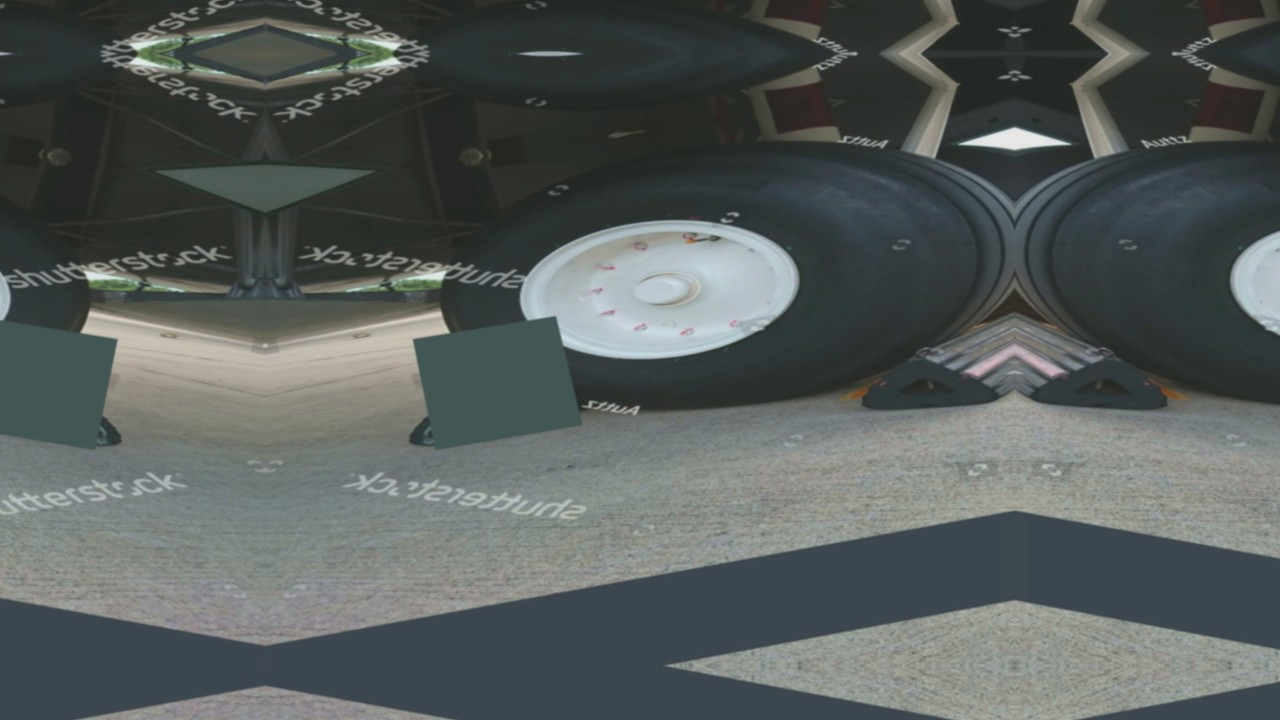chock: (838, 295, 1015, 427), (1015, 295, 1192, 427), (388, 364, 609, 458), (0, 364, 142, 458)
wheel: (402, 99, 1015, 455), (1015, 99, 1280, 455), (341, 54, 940, 147), (0, 99, 128, 455), (341, 0, 940, 54), (904, 118, 1015, 325), (1015, 118, 1126, 325), (1090, 54, 1280, 147), (0, 54, 189, 147), (1090, 0, 1280, 54), (0, 0, 189, 54)
